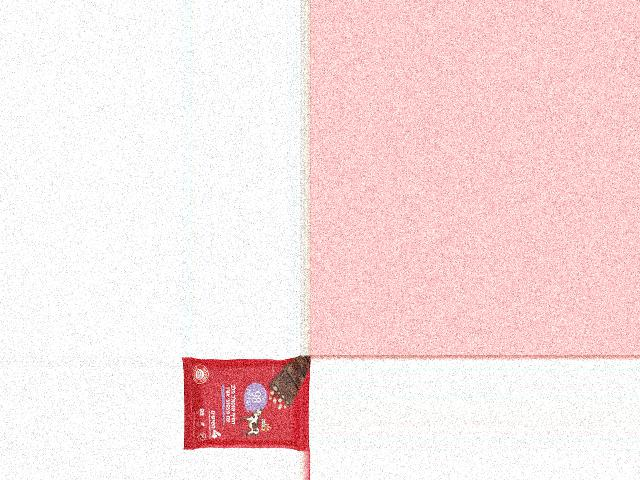chocolate: (181, 359, 309, 451)
